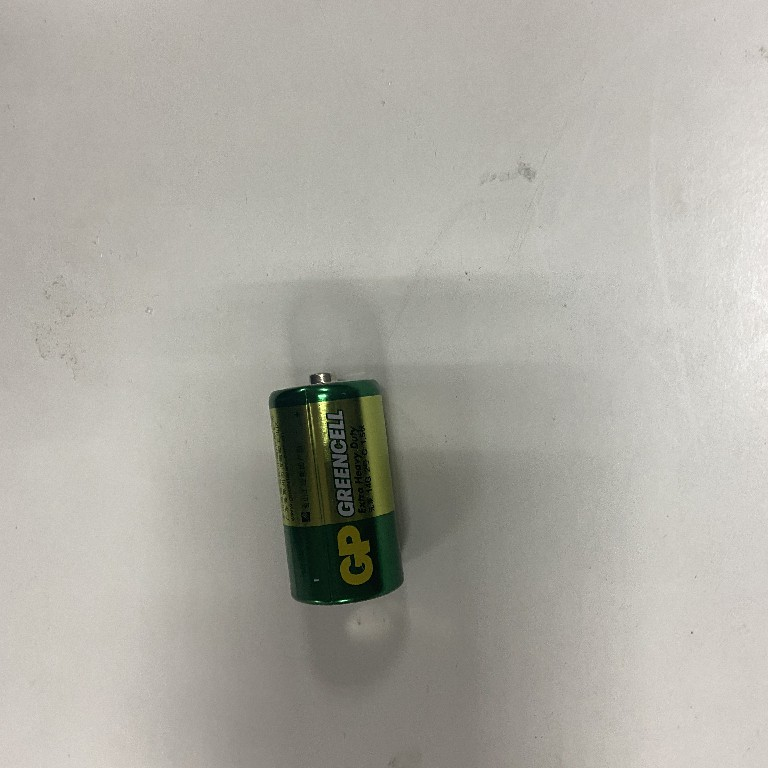charge: (259, 365, 423, 613)
